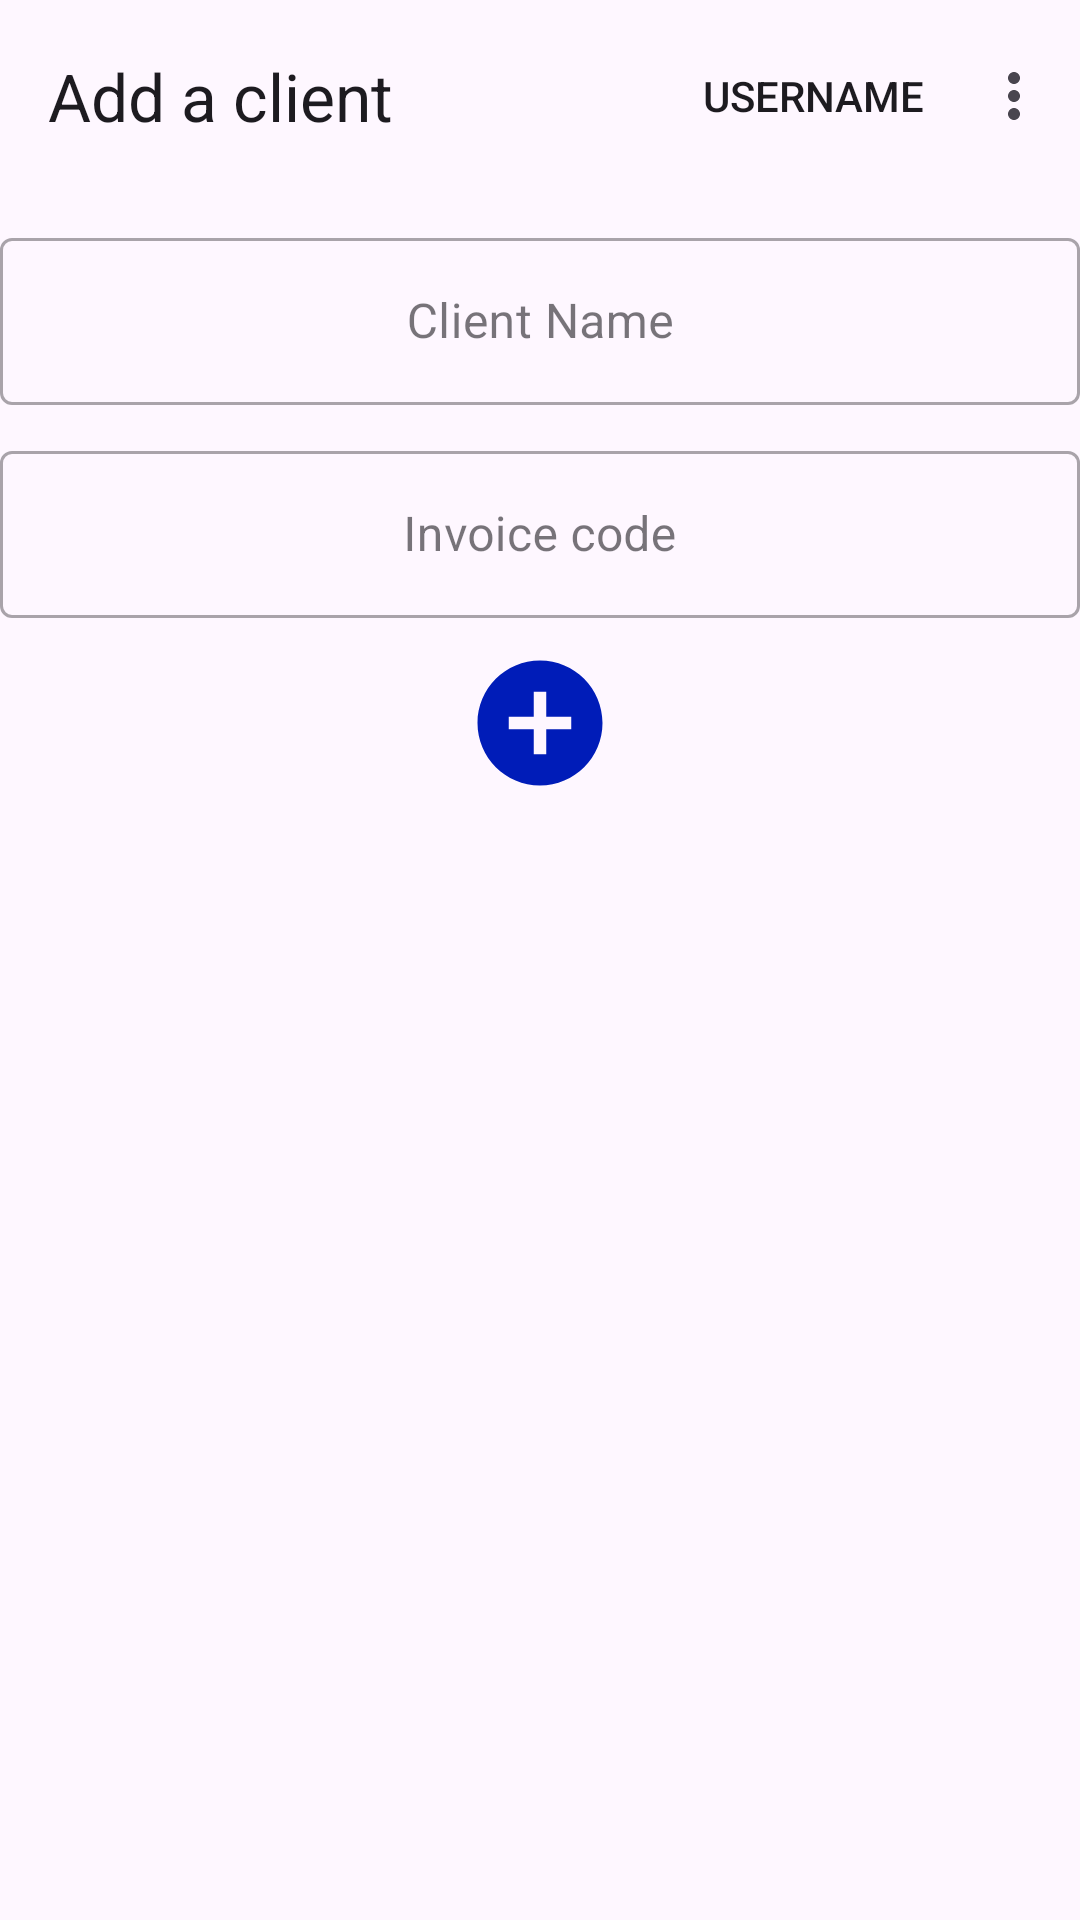

Icons on this 1080×1920 Android screen, each with the point to tap as point (x, y):
add circle: point (540, 723)
